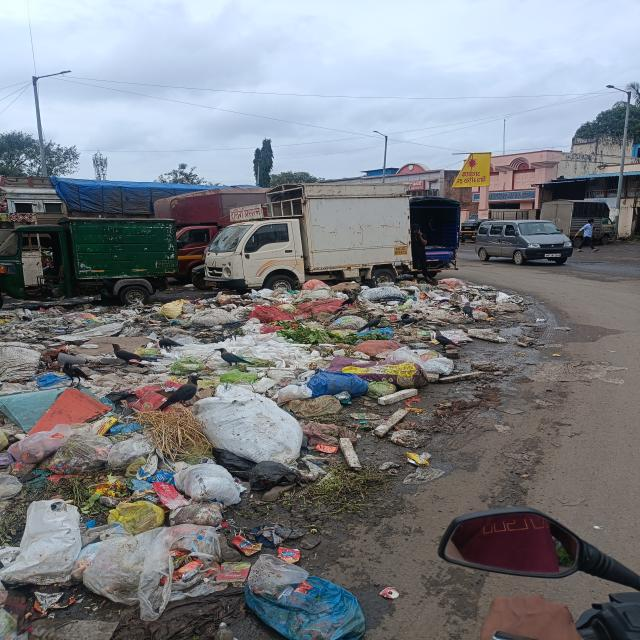garbage: (0, 284, 523, 490), (7, 502, 354, 640)
